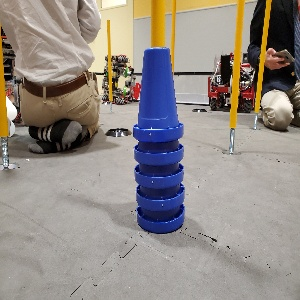Blue_5: (132, 47, 184, 233)
